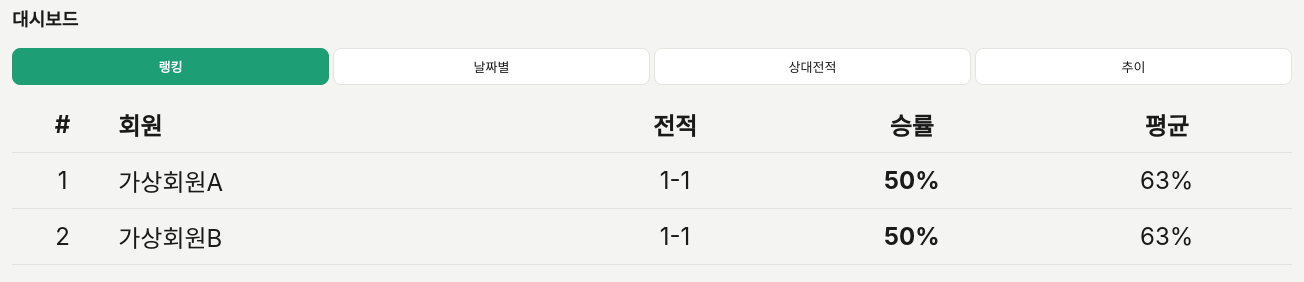
Test: DashboardTab — 상대전적 카드에 날짜 표시 › 날짜별(ByDate) 탭에서는 카드마다 날짜를 다시 보여주지 않는다(드롭다운으로 이미 날짜가 정해짐 — 중복 방지)
The width and height of the screenshot is (1304, 282).
Step 1. Click the button "날짜별" → (492, 66), box x1=333 y1=48 x2=650 y2=85
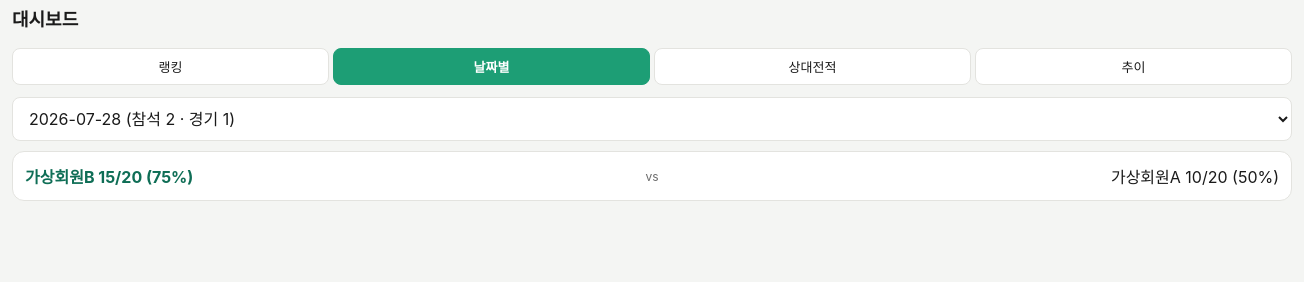
Check: the list item "가상회원B 15/20 (75%) vs 가상회원A 10/20 (50%)" is shown, box x1=12 y1=151 x2=1292 y2=201
Check: the element with class "result-row" is shown, box x1=25 y1=164 x2=1279 y2=188
